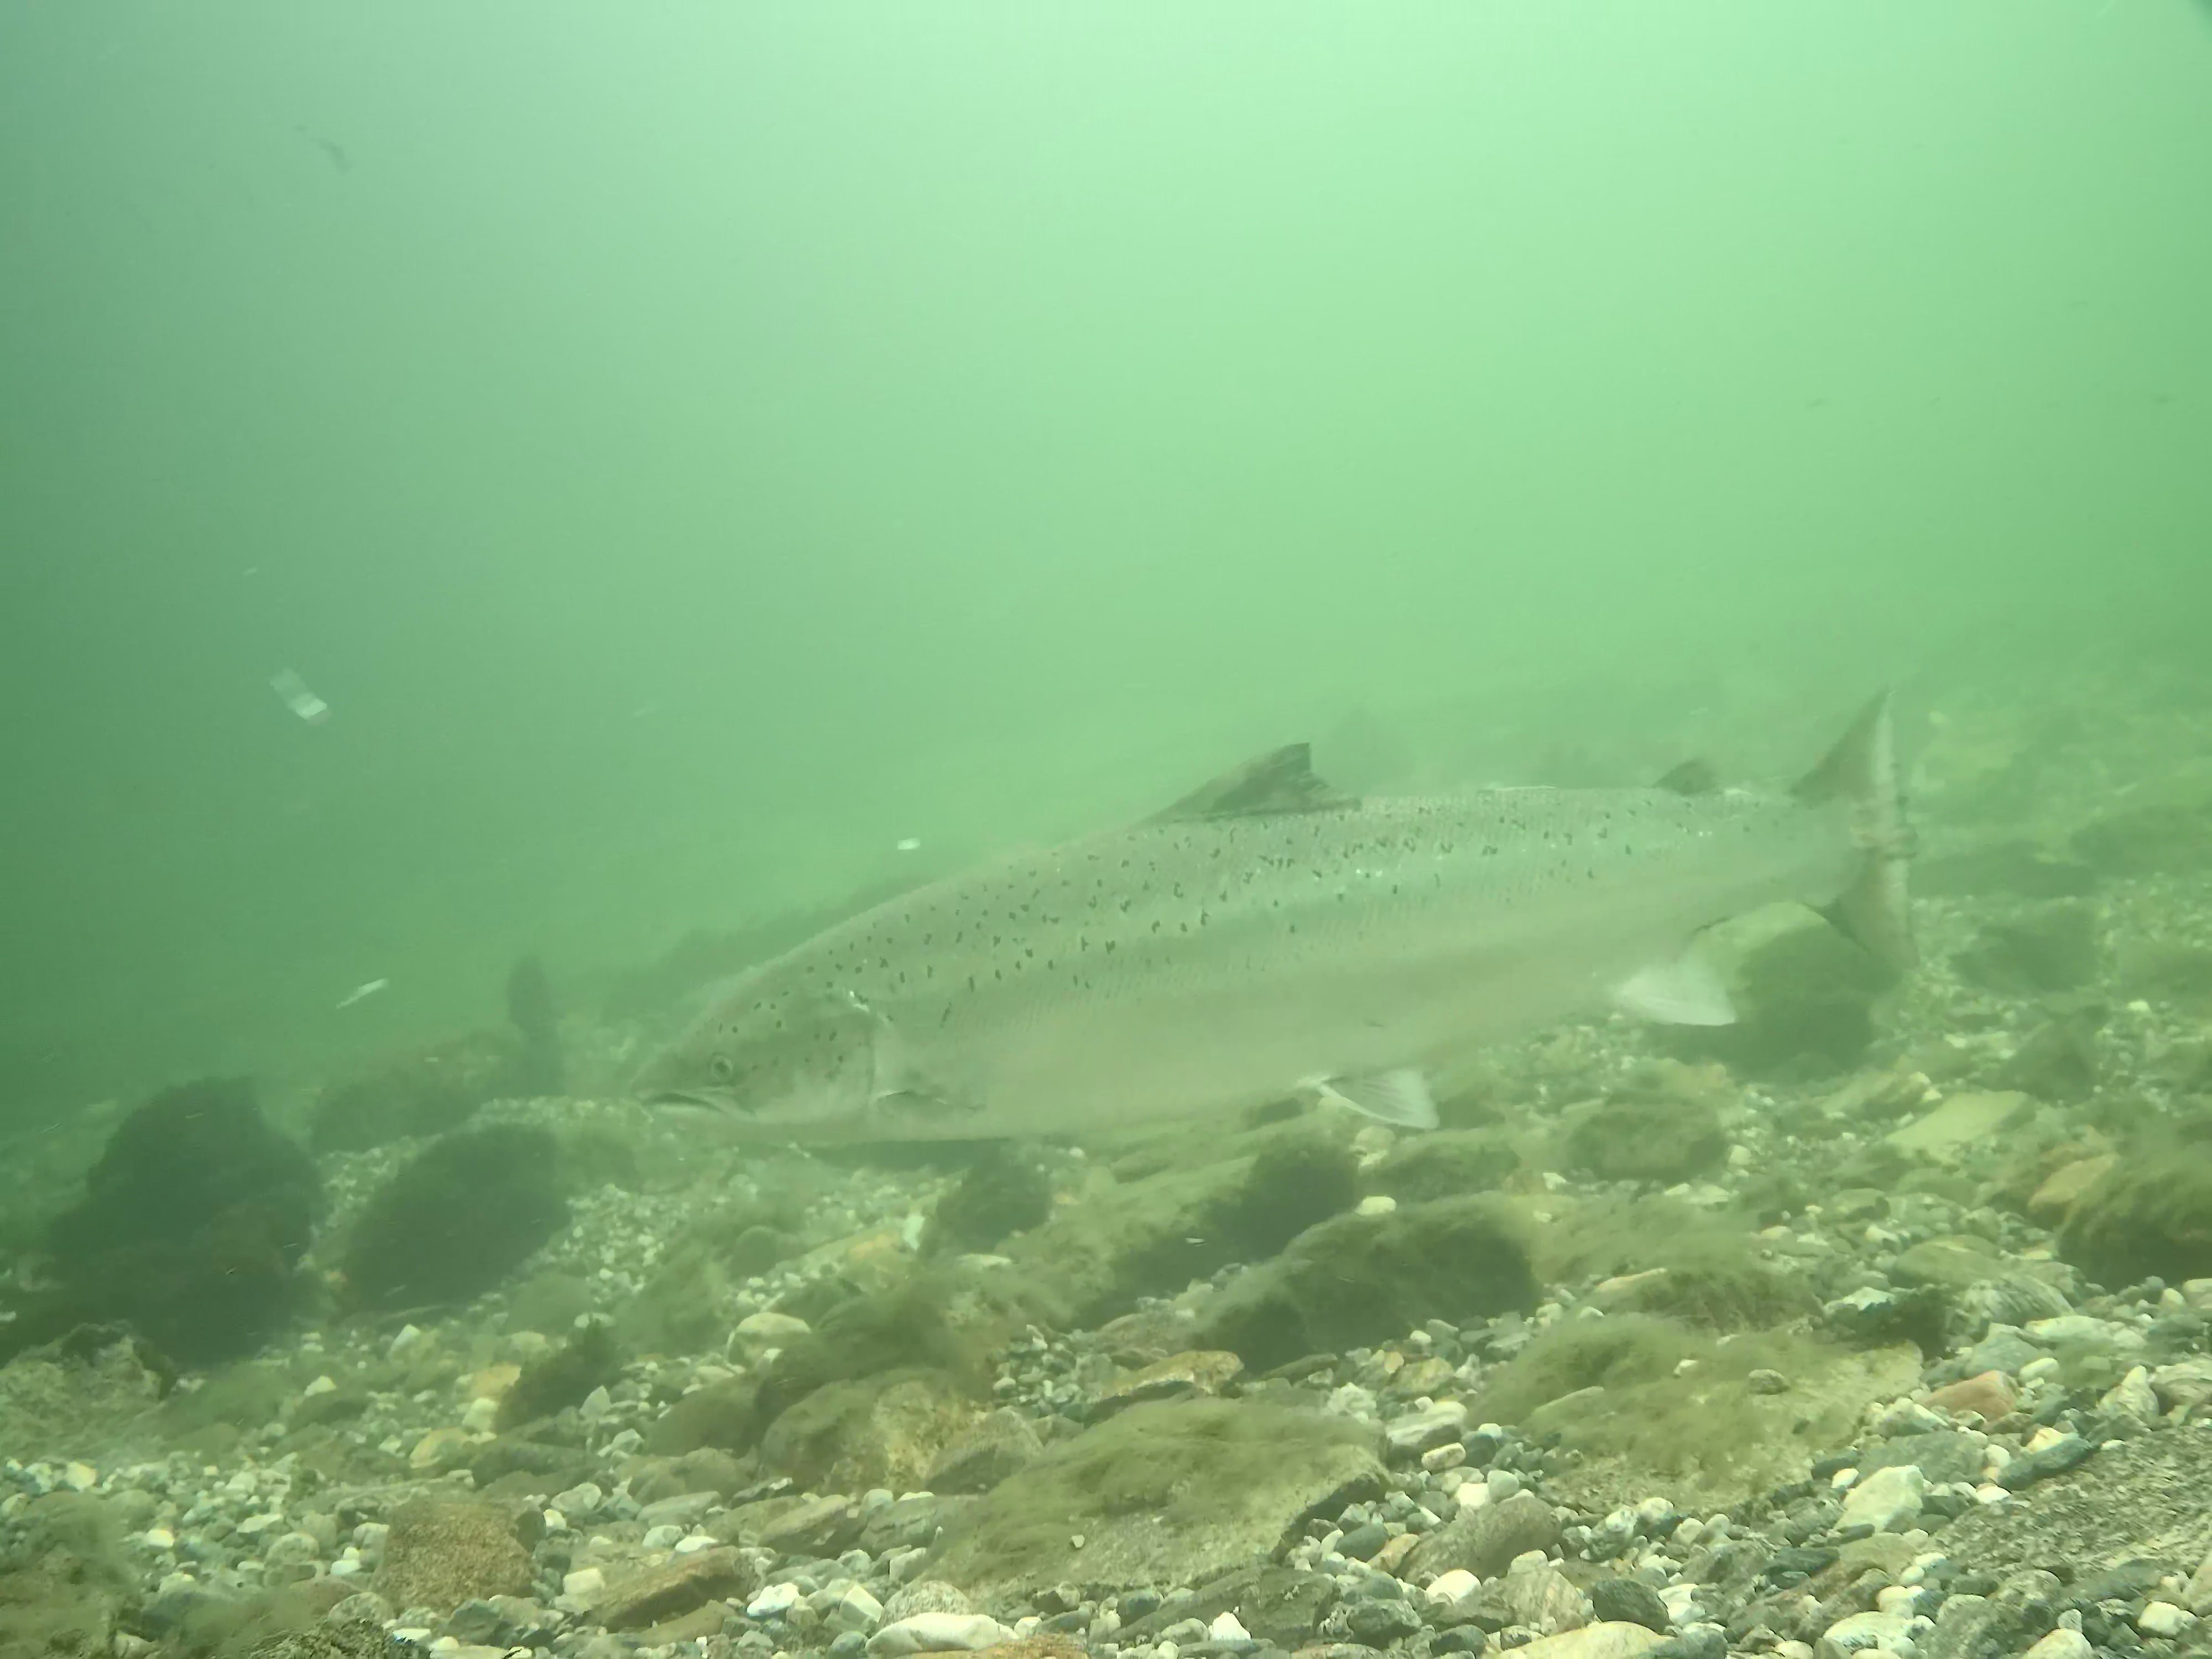salmon: (625, 680, 1930, 1148)
